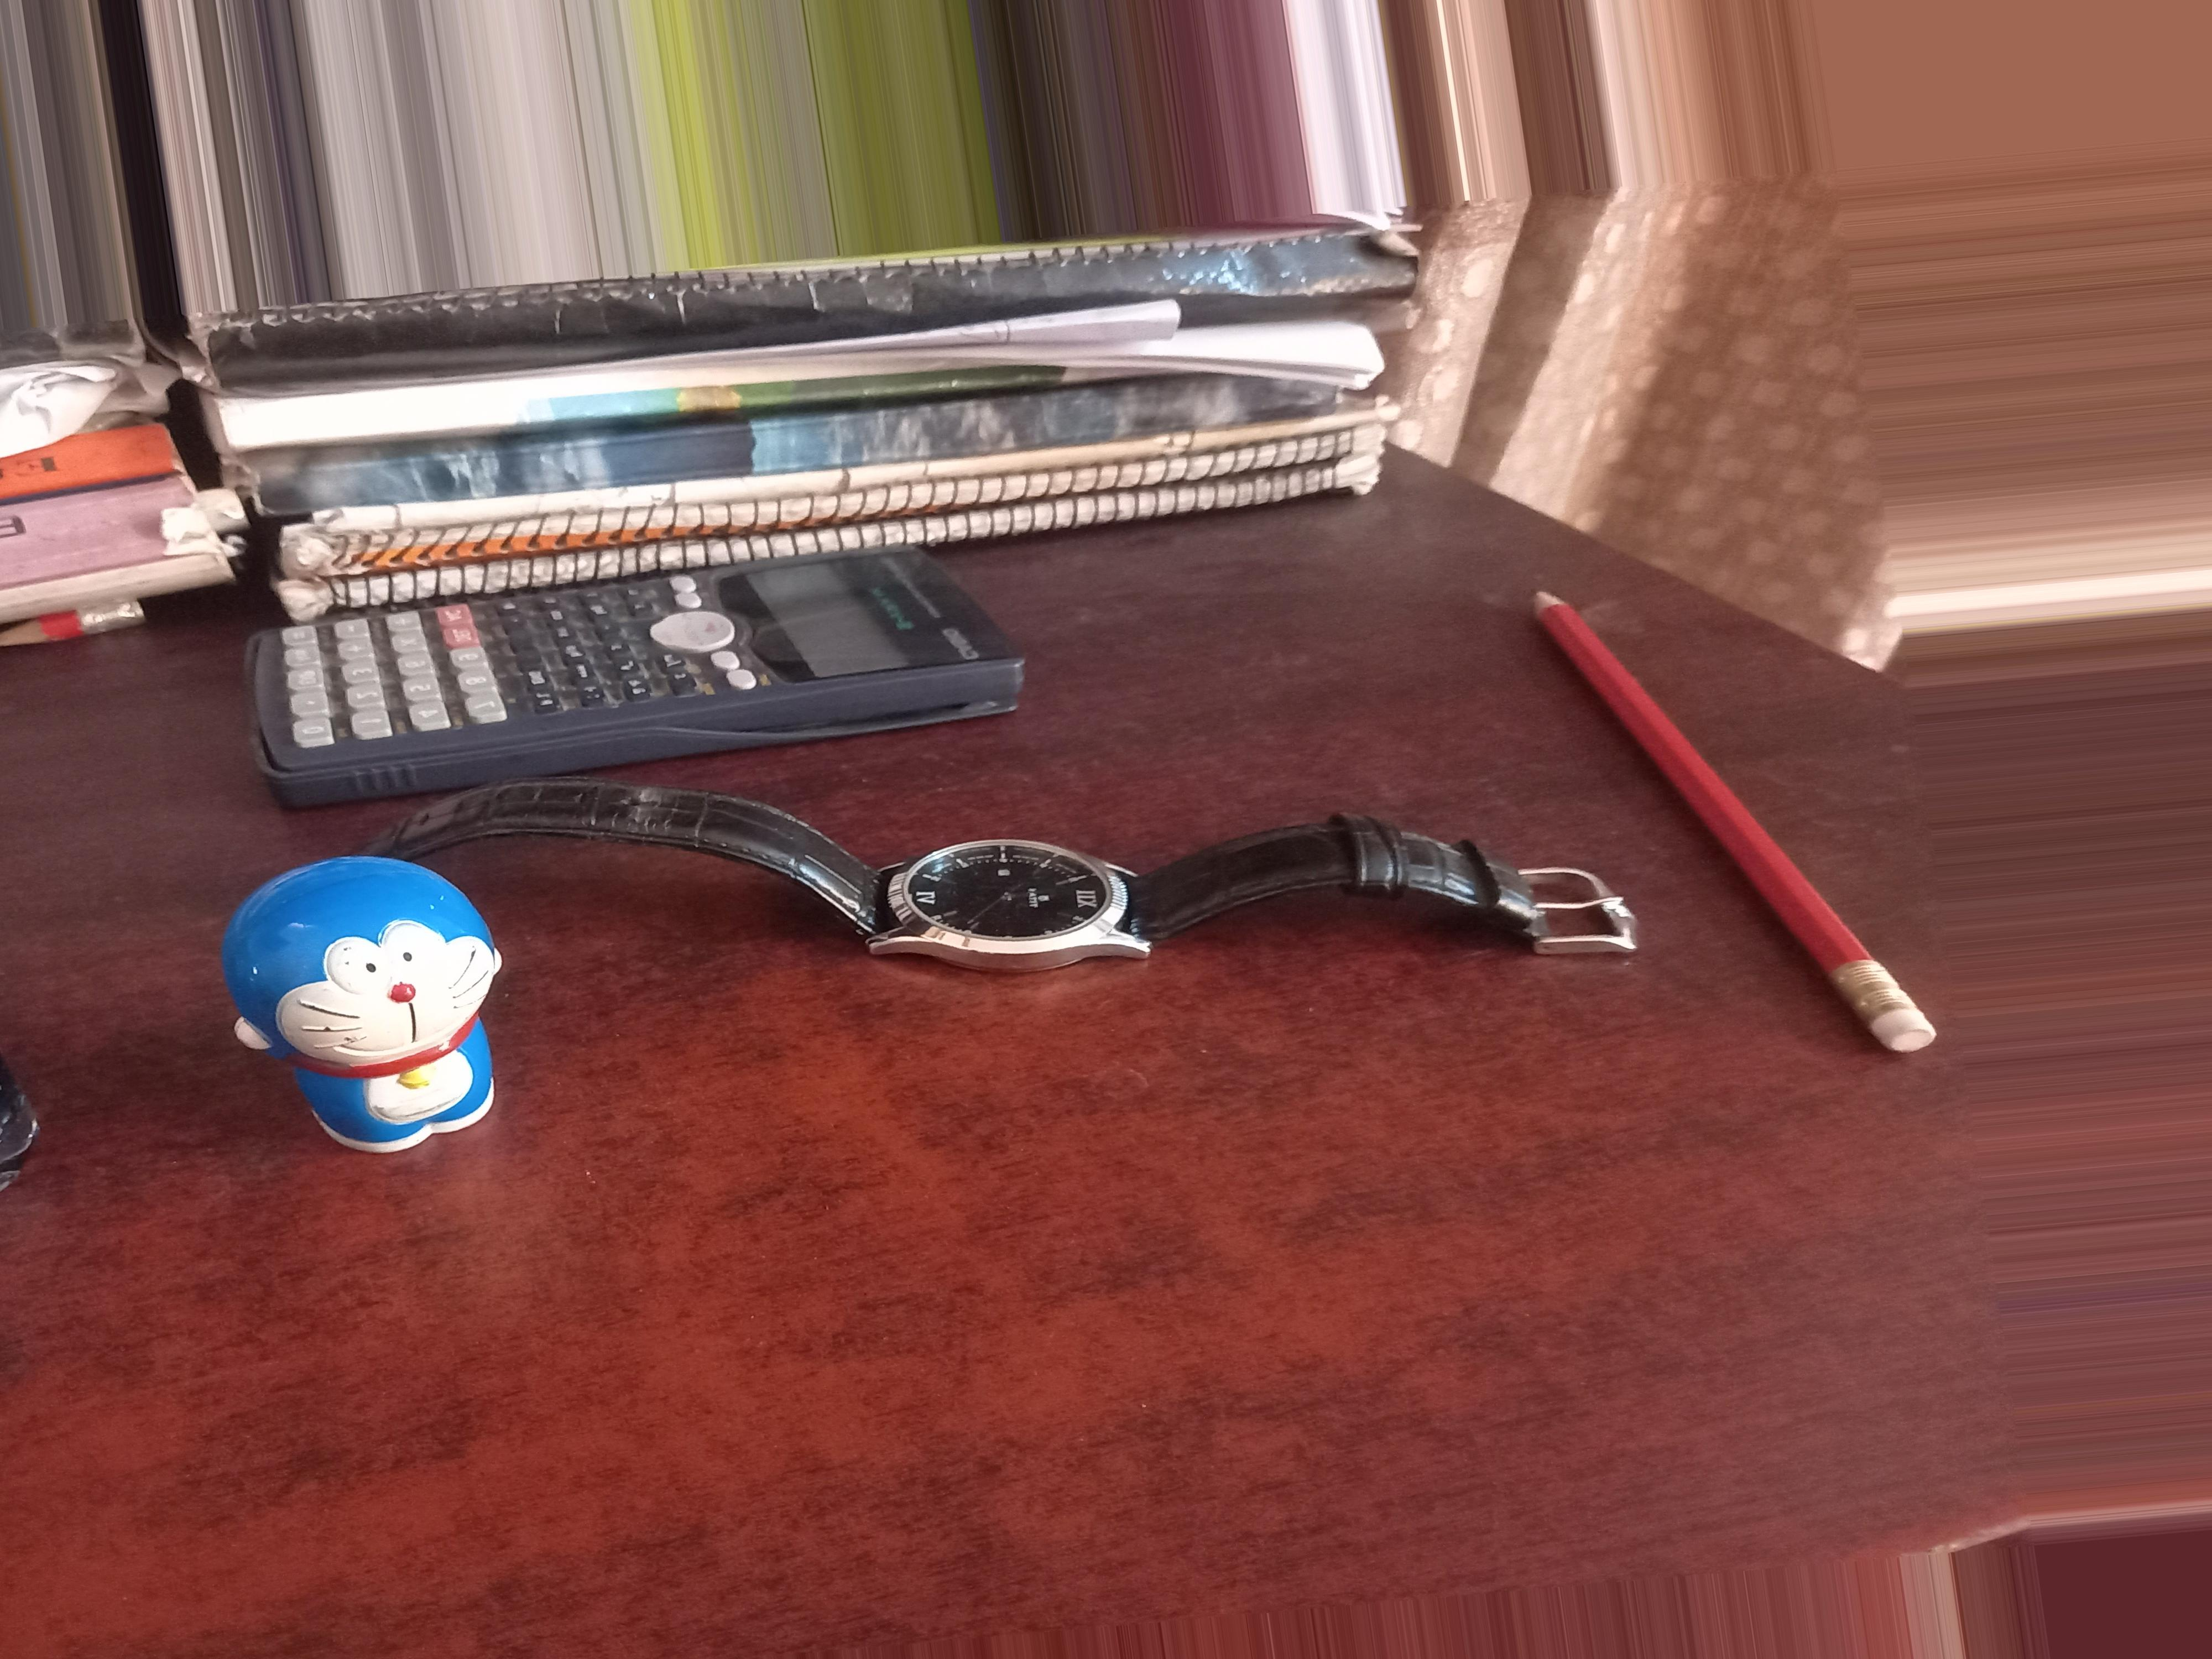calculator: (277, 570, 1047, 758)
doraemon: (237, 892, 561, 1141)
pencil: (1724, 742, 1946, 1114)
perfume: (723, 800, 1613, 992)
watch: (585, 803, 1674, 976)
